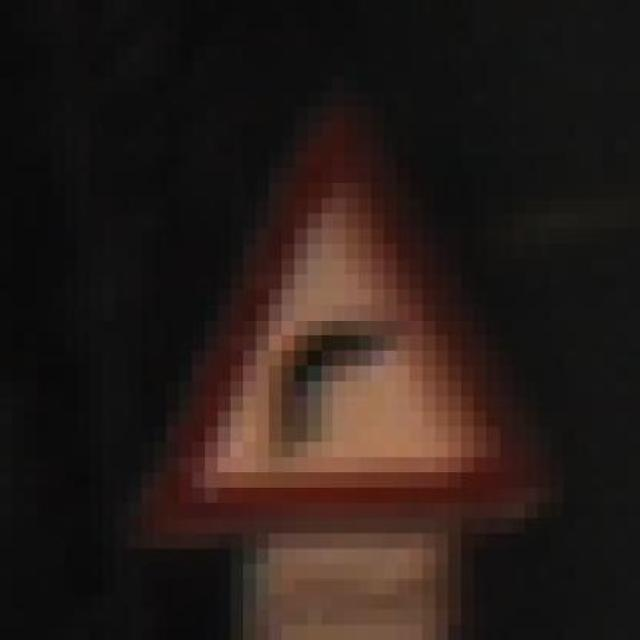Dangerous Rright Curve Ahead: (141, 61, 564, 533)
